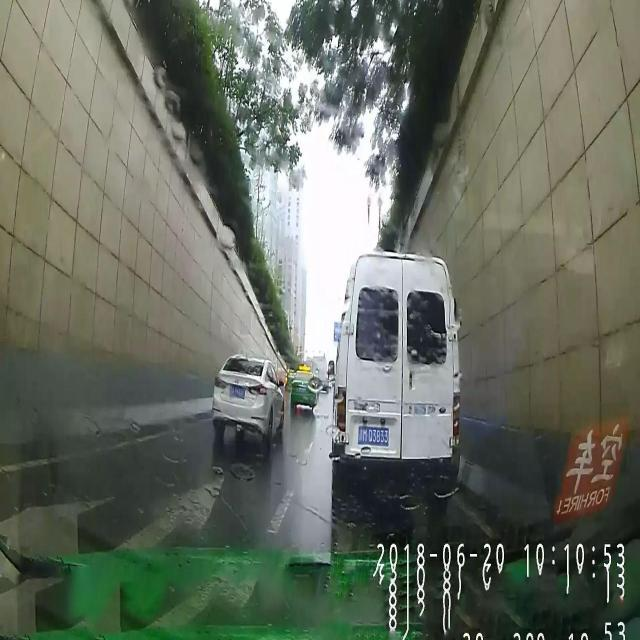car: (328, 248, 460, 508), (210, 354, 282, 446), (289, 365, 318, 411)
